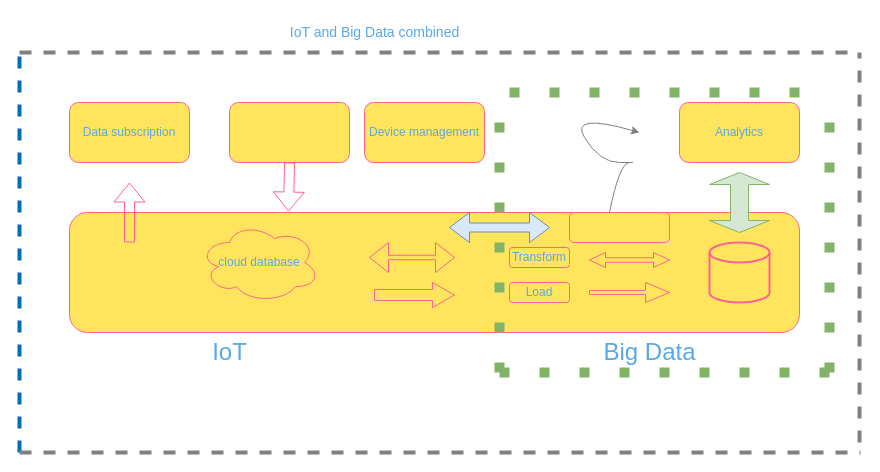
This 880x472 diagram has some shape labels left out. The shapes that lost their labels are listed below. From the top down, each one's centre as x and y in pixels, then its label:
At point (289, 132): "Data Acquisition".
At point (619, 227): "Aggregation".
At point (739, 272): "Persistent storage".
